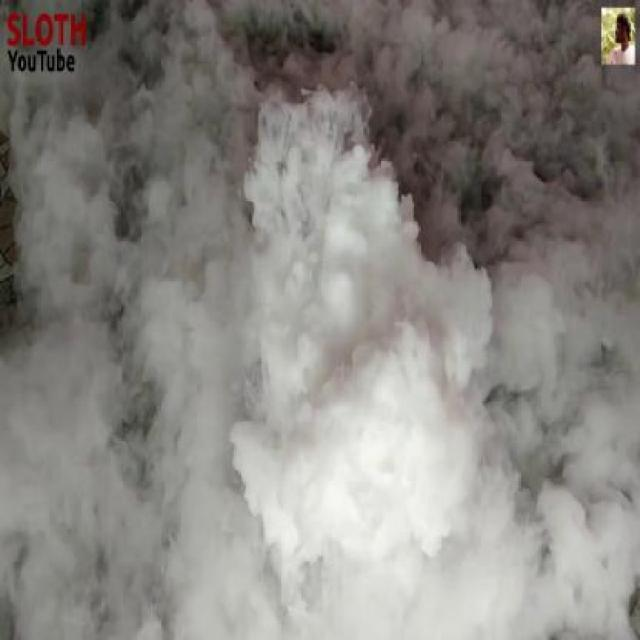smoke: (176, 132, 553, 586)
